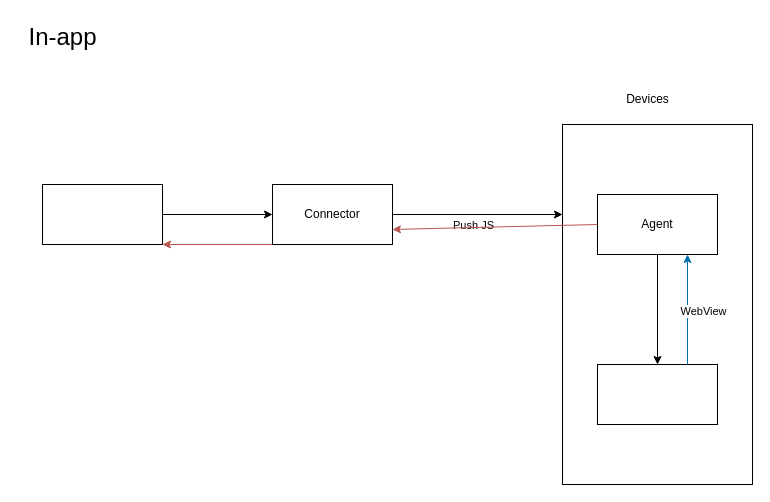
This 770x502 diagram has some shape labels left out. Each missing label, with the box of its shape:
AUT WebView: (596, 364, 718, 424)
UFTO: (42, 184, 162, 244)
